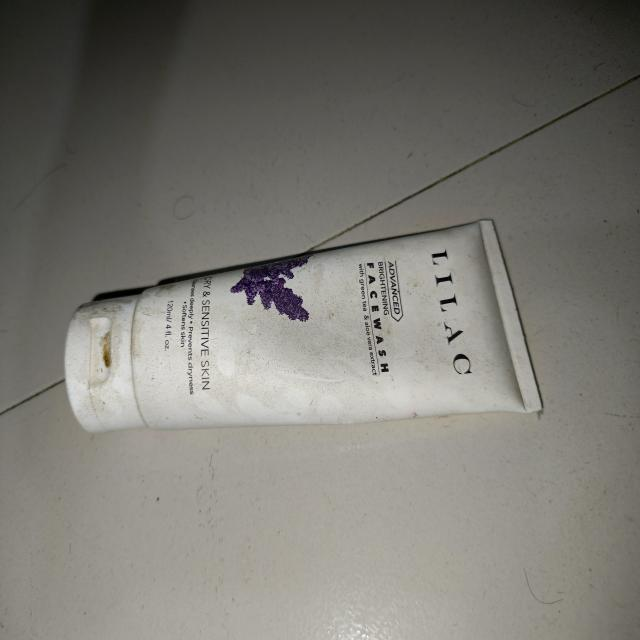Squeeze Tube: (60, 208, 568, 449)
